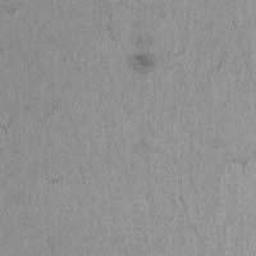Oil spot: (133, 54, 153, 67)
